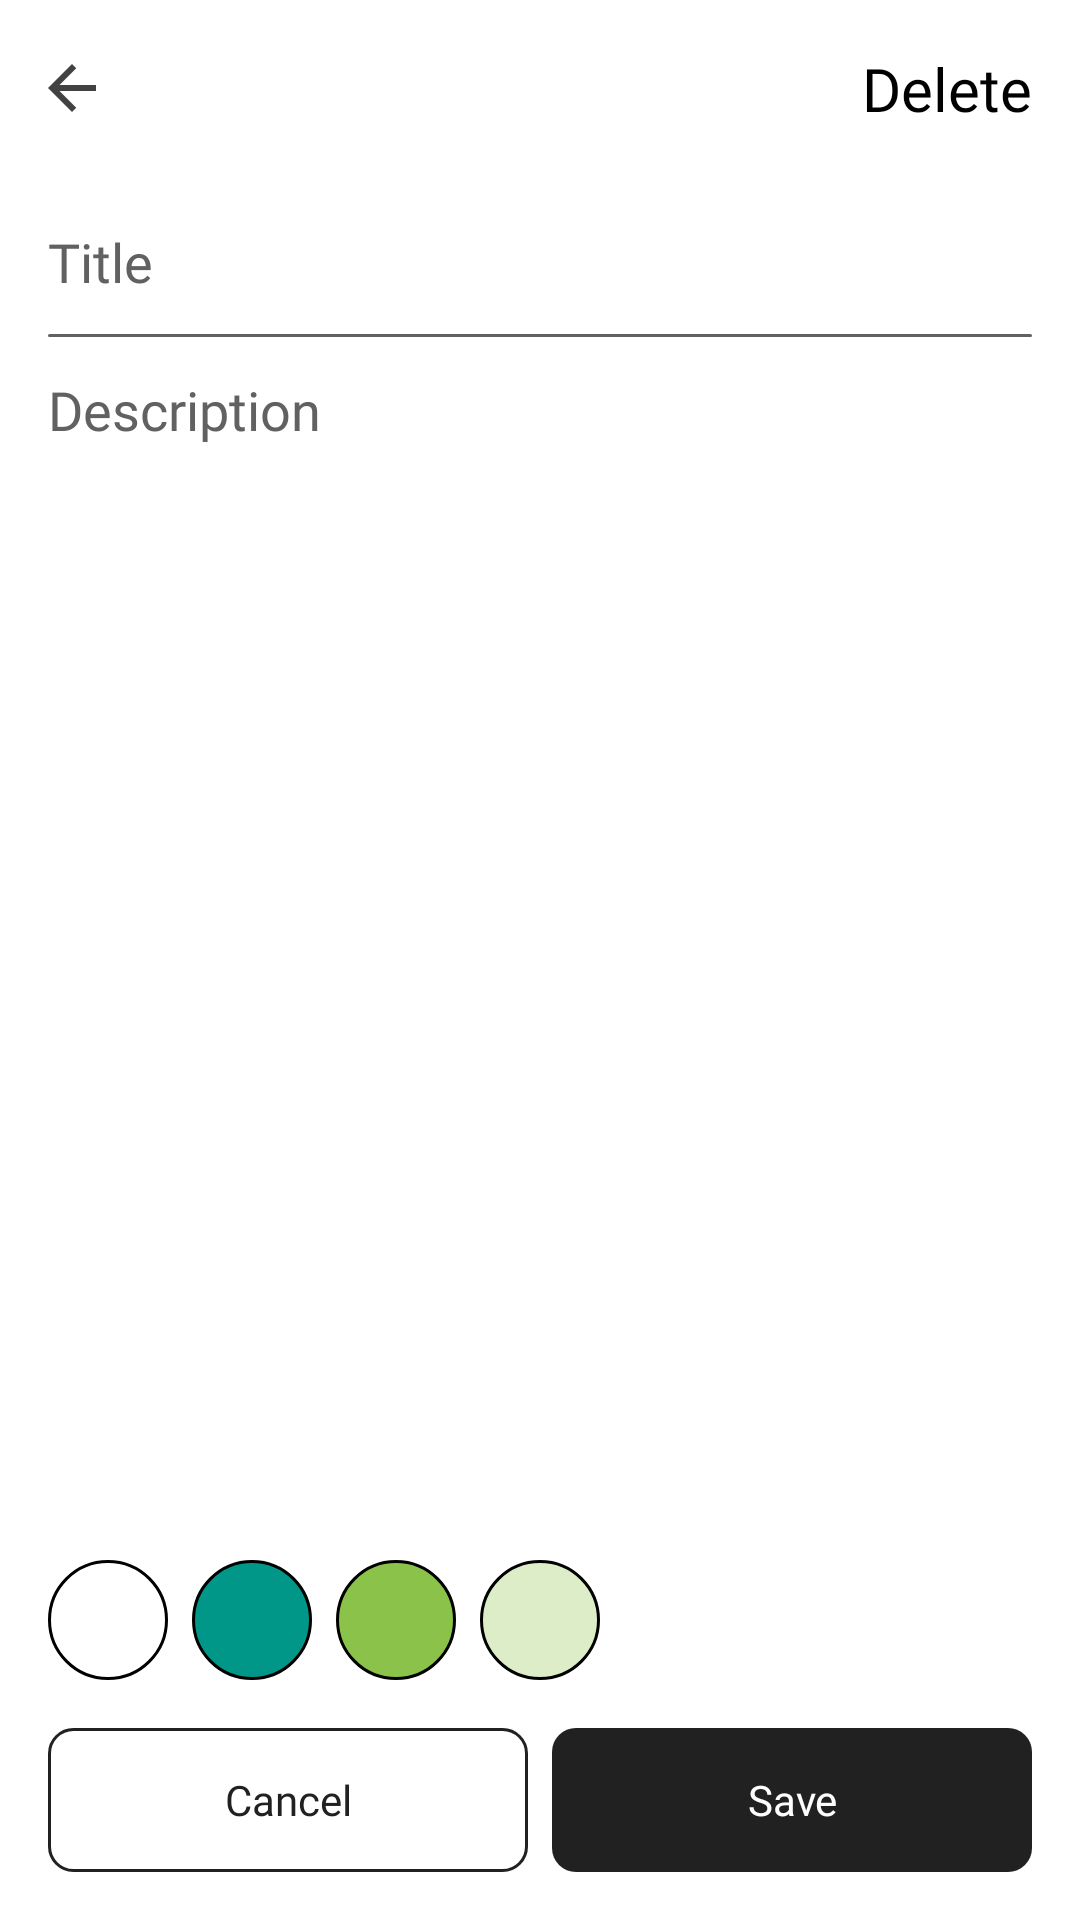

Where icons sit on this 1080px x 1920px app screen, as (x1, y1, x2, y2):
back: (48, 64, 96, 112)
